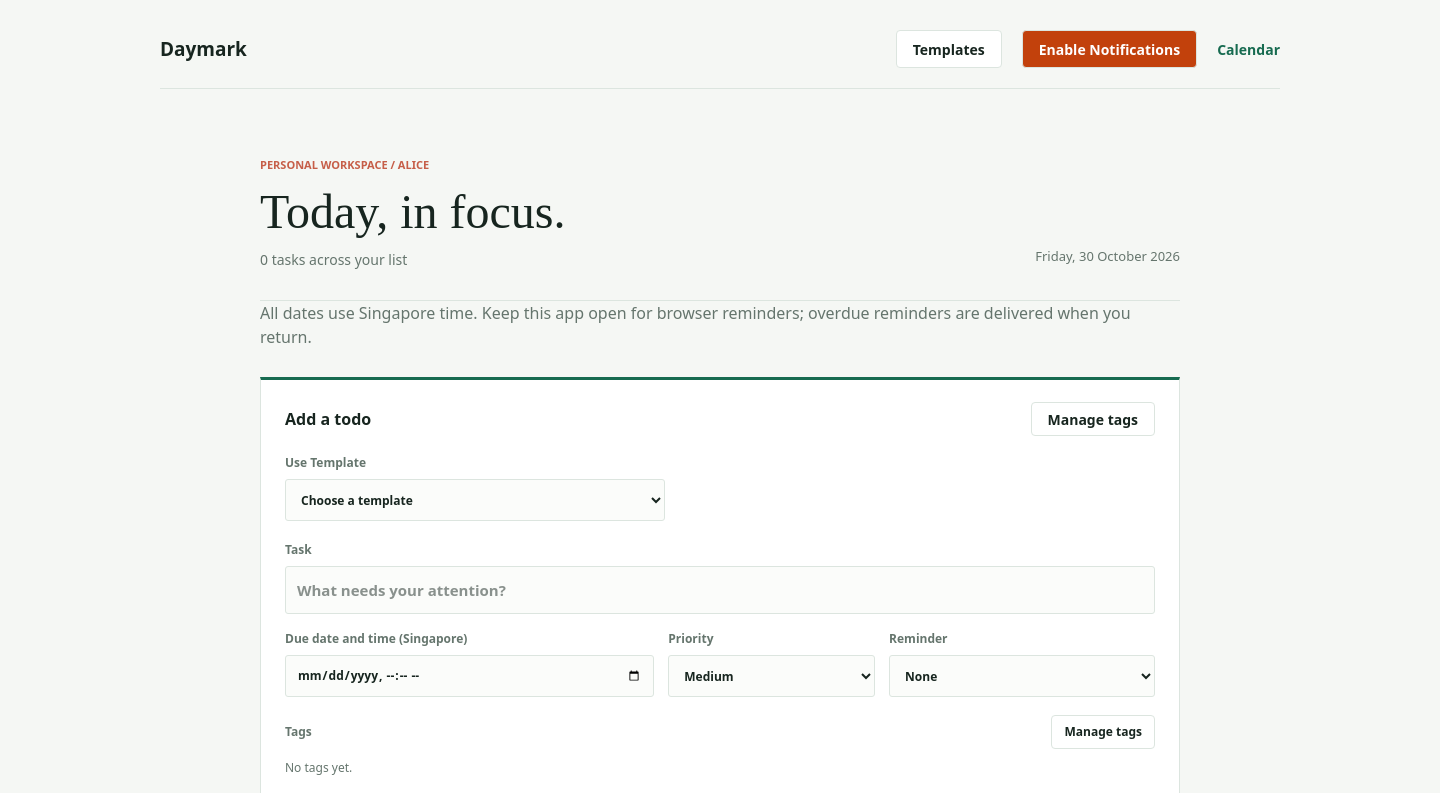
Test: template controls › surfaces template failures without inserting a fake todo
Select "Weekly review (Work)" in the dropdown labelled "Use Template" at (475, 500), box [285,479,665,521]
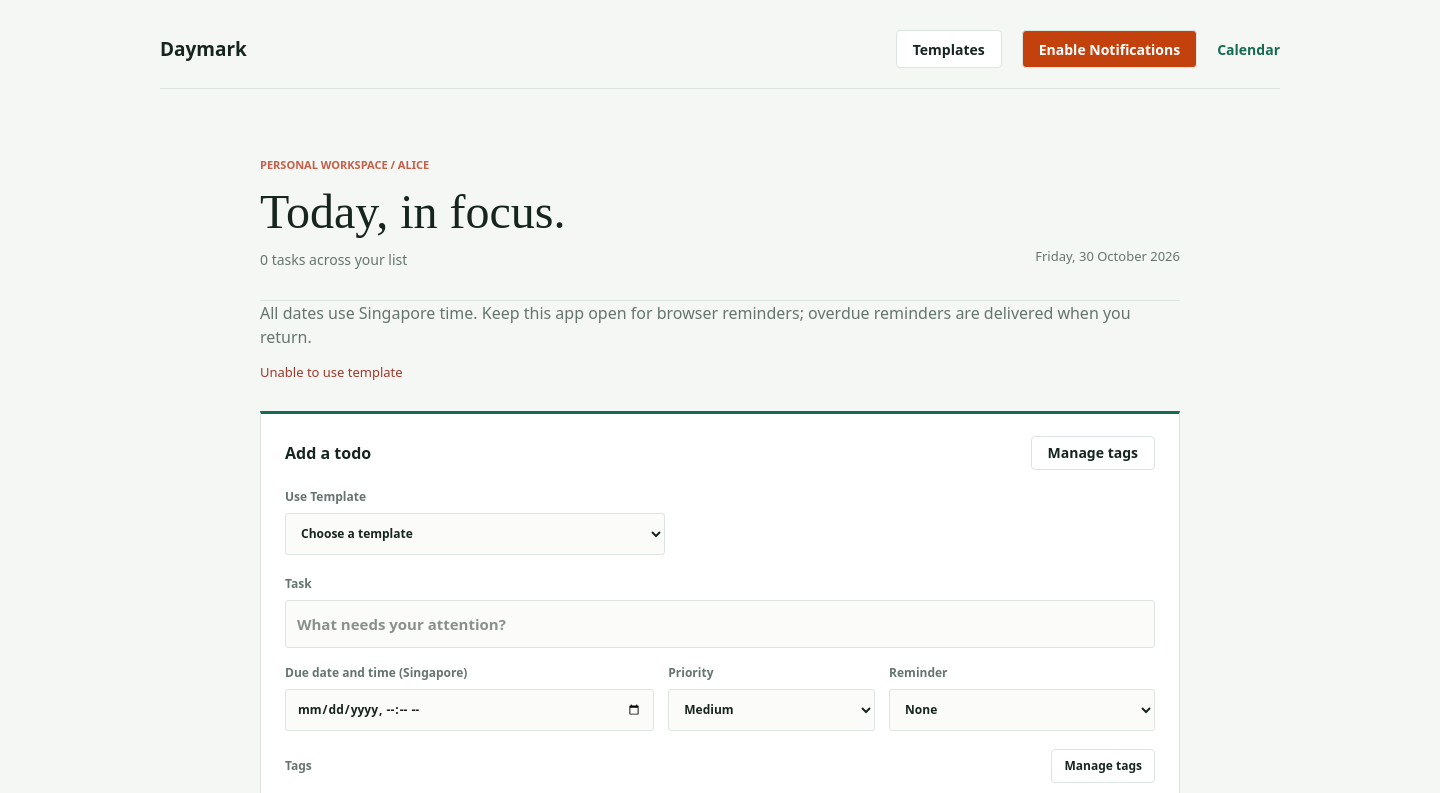
Now the text "Unable to use template" is shown, box [260,363,403,381]
